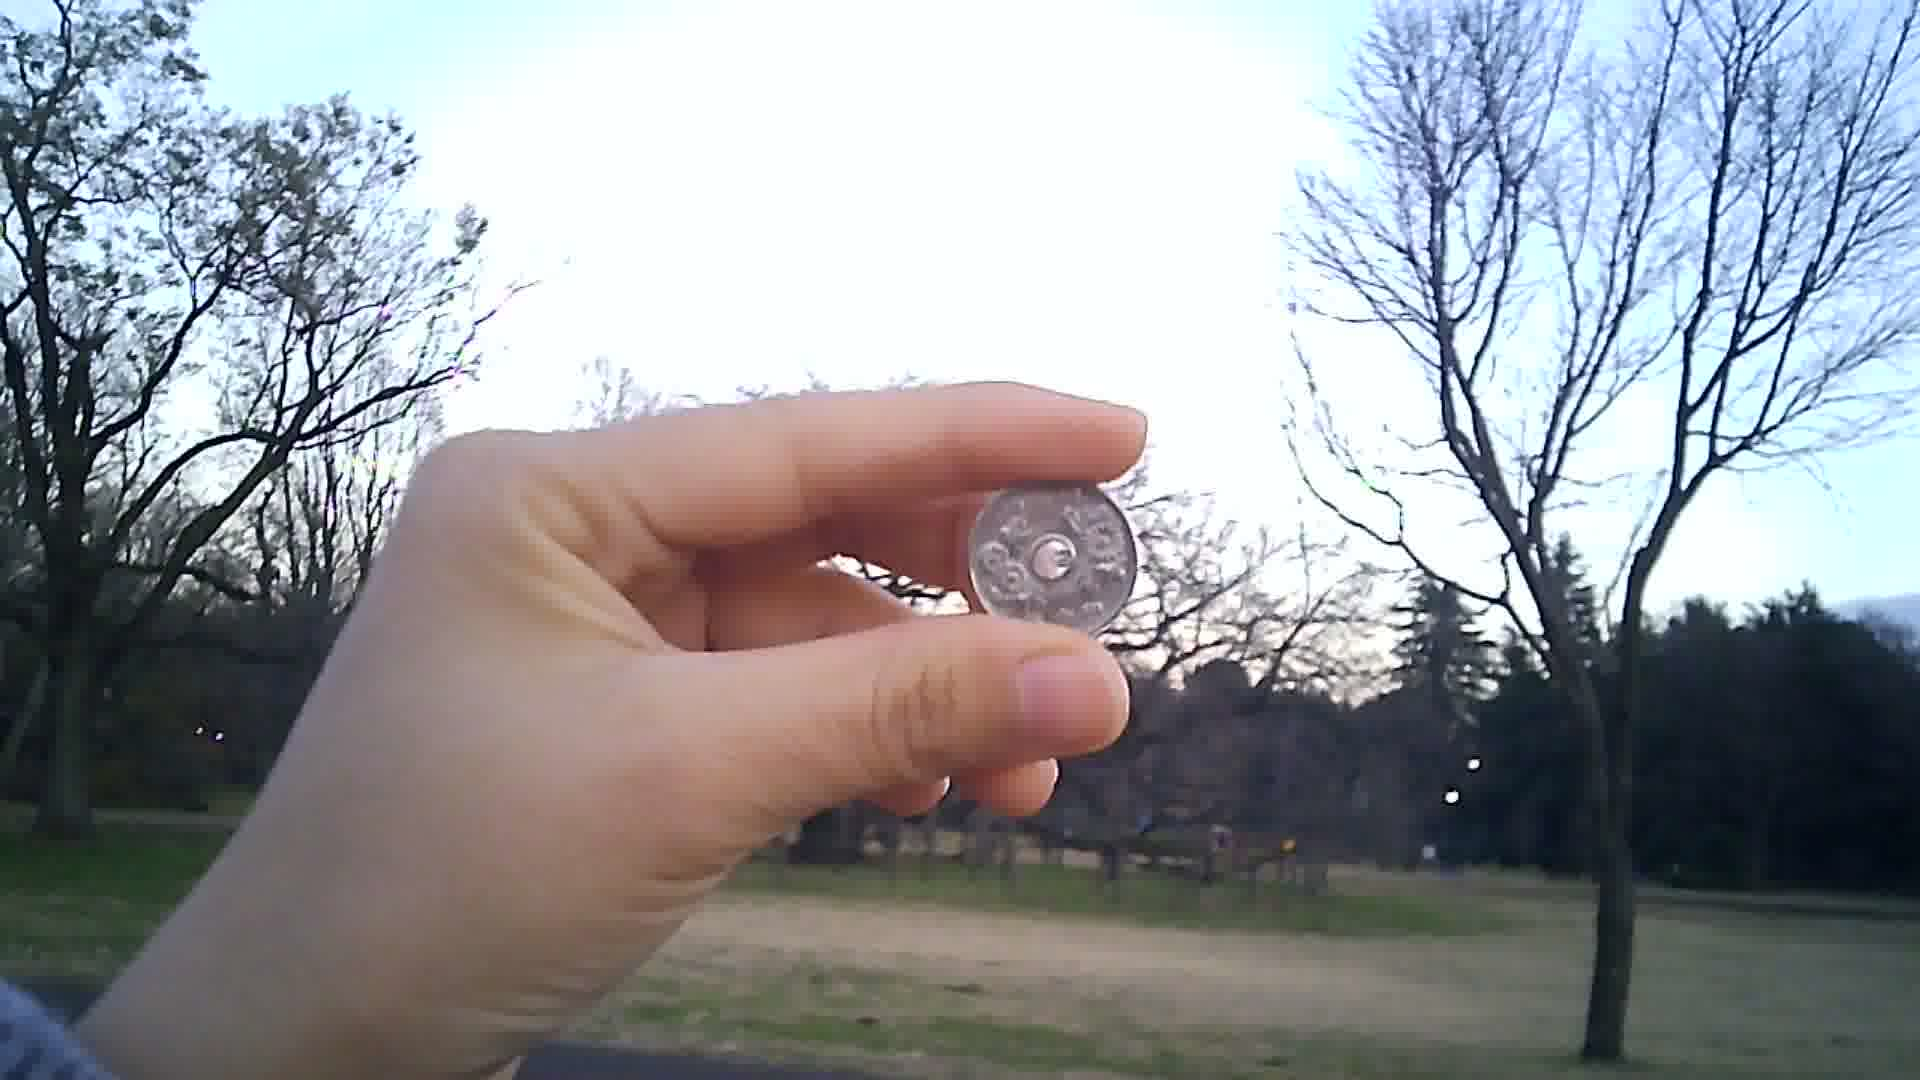50 Yen: (957, 469, 1155, 659)
